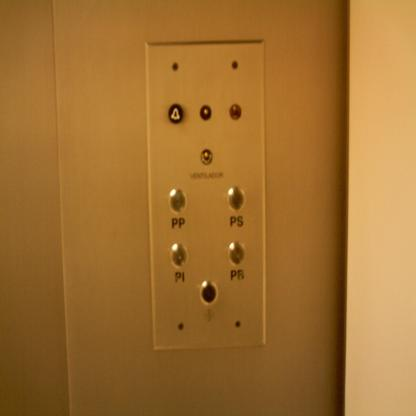alarm: (167, 103, 184, 125)
empty: (226, 185, 246, 214), (226, 240, 246, 267), (168, 188, 187, 216), (199, 280, 218, 306), (170, 244, 188, 270)
indicator: (228, 103, 241, 120), (200, 148, 212, 165), (200, 104, 212, 119)
